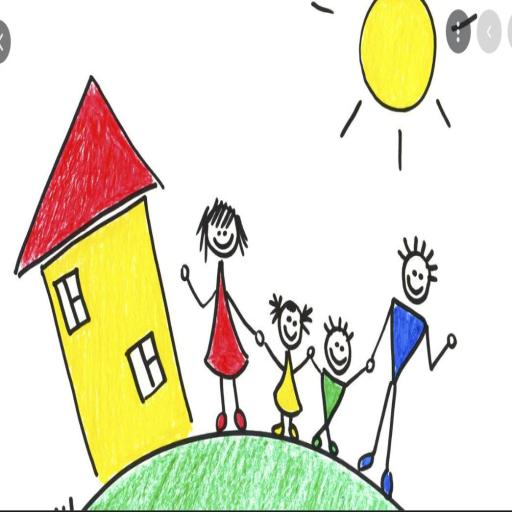person: (348, 236, 457, 490), (178, 196, 263, 436), (310, 313, 376, 453), (264, 287, 314, 440)
